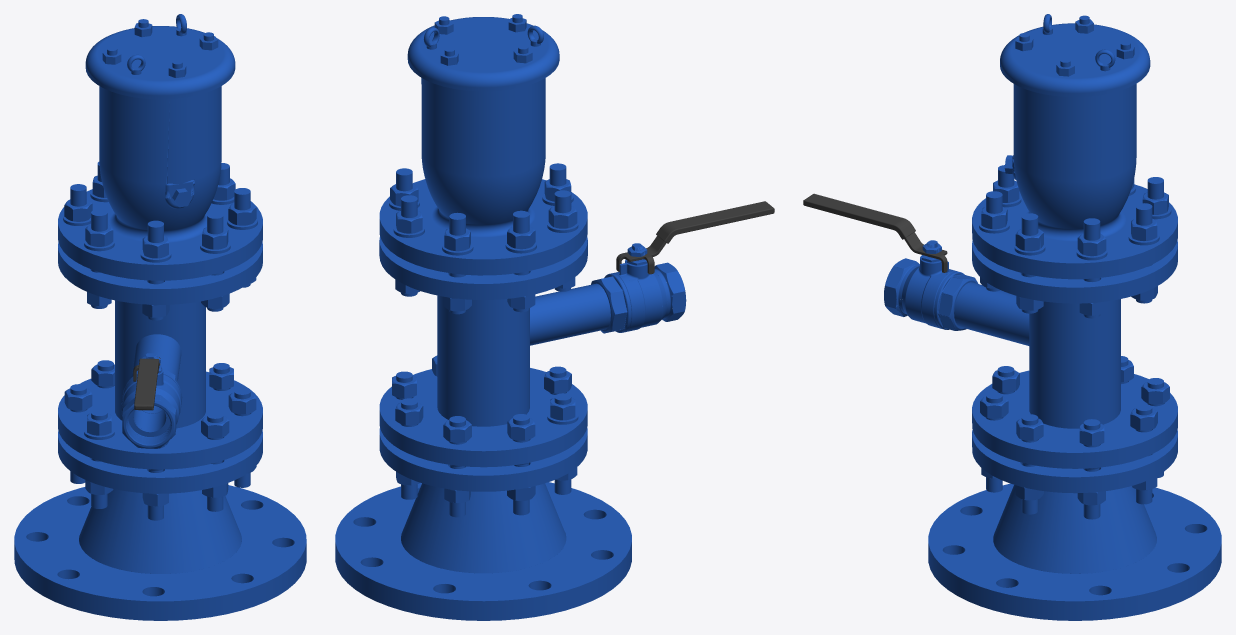
The model's file is DN80空气阀组件、异径接头、异径法兰.glb.
3 views of the same model, side by side, from view 1: azimuth 30°, elevation 25°; view 2: azimuth 150°, elevation 25°; view 3: azimuth 270°, elevation 25° (orthographic).
Parts seen in each view (by area): view 1: DN80空气阀组件（异径三通和异径法兰）.SLDPRT; view 2: DN80空气阀组件（异径三通和异径法兰）.SLDPRT; view 3: DN80空气阀组件（异径三通和异径法兰）.SLDPRT.
Boxes of the visible parts, left/top/right/bottom form: DN80空气阀组件（异径三通和异径法兰）.SLDPRT: left=14, top=14, right=306, bottom=620; DN80空气阀组件（异径三通和异径法兰）.SLDPRT: left=335, top=14, right=774, bottom=620; DN80空气阀组件（异径三通和异径法兰）.SLDPRT: left=803, top=14, right=1221, bottom=620.
Bounding box in the file's own units: 0.3182 × 0.567 × 0.406.
